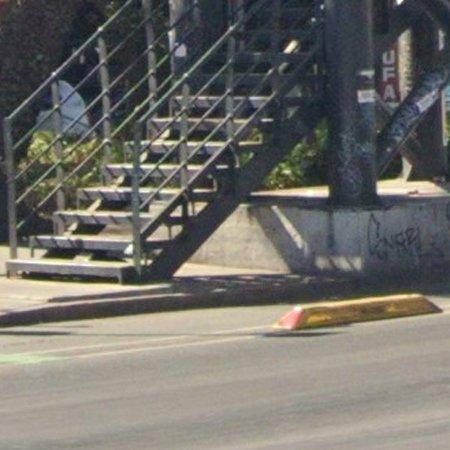stairs: (6, 0, 326, 283)
